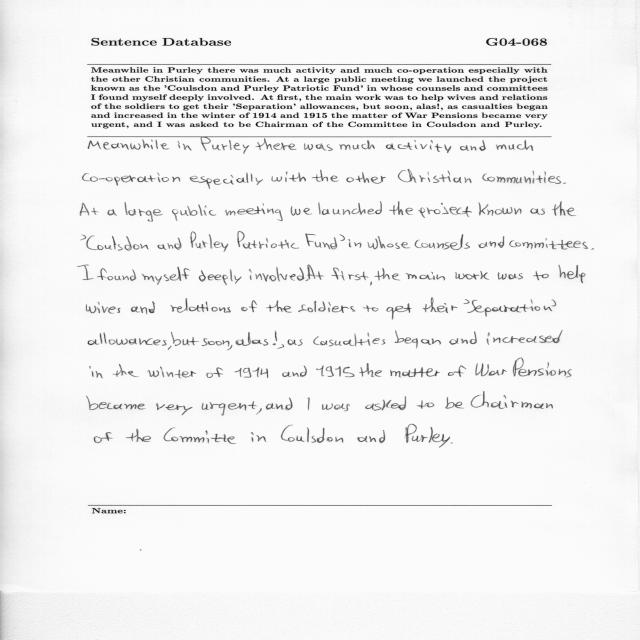word: (468, 299, 552, 317), (471, 391, 553, 409), (83, 173, 181, 186), (190, 172, 263, 189), (249, 265, 324, 281), (163, 428, 236, 444), (487, 330, 563, 345), (237, 231, 299, 249), (281, 425, 343, 443), (513, 358, 571, 377), (406, 424, 451, 448), (225, 203, 283, 221), (398, 170, 472, 184), (483, 171, 562, 184), (313, 333, 386, 347), (509, 238, 594, 250), (88, 333, 161, 346), (170, 298, 231, 313), (202, 401, 262, 416), (318, 201, 382, 215), (89, 139, 170, 150), (415, 234, 470, 250), (142, 267, 190, 285), (394, 331, 441, 349), (386, 140, 451, 153), (86, 396, 146, 410), (418, 203, 472, 218), (201, 138, 249, 154), (190, 232, 228, 252), (172, 204, 216, 221), (124, 202, 163, 221), (199, 270, 242, 286), (298, 301, 355, 313), (105, 236, 149, 251), (365, 396, 406, 411), (479, 202, 522, 216), (367, 237, 410, 250), (148, 367, 197, 378), (423, 298, 458, 313), (305, 234, 337, 250), (97, 268, 136, 281), (558, 265, 586, 283), (390, 367, 440, 377), (256, 139, 296, 151), (346, 172, 386, 184), (236, 332, 269, 346), (156, 403, 193, 415), (386, 303, 412, 320), (316, 366, 354, 377), (475, 364, 507, 377), (496, 140, 533, 151), (171, 332, 199, 346), (449, 331, 477, 345), (272, 171, 307, 182), (87, 302, 121, 313), (235, 367, 269, 378), (357, 430, 385, 443), (339, 140, 375, 150), (112, 364, 139, 377), (266, 300, 292, 313), (552, 202, 576, 216), (81, 235, 103, 250), (126, 429, 151, 442), (312, 170, 339, 182), (359, 363, 382, 377), (455, 271, 490, 280), (389, 202, 413, 215), (479, 236, 505, 248), (375, 268, 401, 280), (406, 272, 445, 280), (131, 302, 155, 315), (158, 238, 182, 250), (460, 140, 486, 151), (282, 366, 307, 377), (77, 265, 94, 280), (80, 203, 99, 216), (304, 143, 333, 151), (445, 397, 464, 409), (202, 339, 230, 347), (322, 404, 350, 412), (448, 365, 466, 377), (291, 206, 312, 216), (273, 330, 284, 349), (94, 432, 113, 443), (276, 398, 293, 410), (498, 272, 523, 280), (241, 301, 257, 313), (207, 367, 224, 378), (349, 272, 369, 281), (417, 400, 435, 409), (90, 366, 103, 378), (251, 432, 266, 442), (533, 271, 549, 280), (178, 141, 192, 151), (349, 239, 362, 248), (331, 268, 340, 280), (530, 208, 545, 215), (363, 305, 378, 312), (162, 340, 171, 350), (107, 209, 117, 216), (266, 403, 275, 410), (287, 340, 297, 346), (340, 271, 345, 281), (340, 234, 345, 241), (298, 339, 303, 346), (464, 299, 470, 304), (552, 300, 556, 307), (308, 397, 310, 410), (227, 345, 232, 350), (370, 281, 372, 286), (563, 182, 566, 184), (450, 442, 453, 444)
